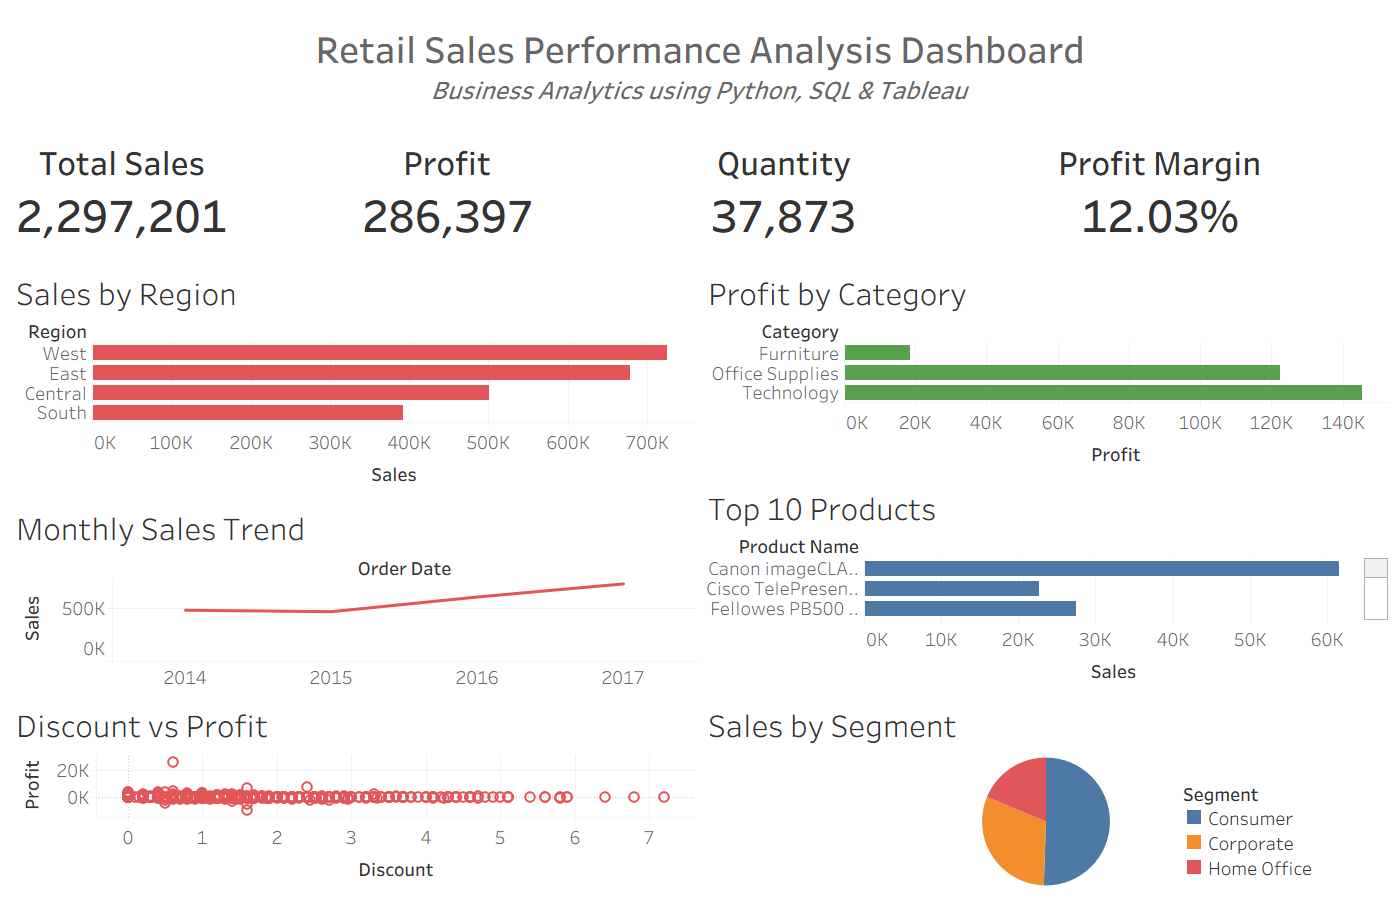

This screenshot's page, from the dashboard's own definition file:
{"tool":"tableau","page":{"name":"Dashboard 3","canvas":[1400,900],"ordinal":0},"visuals":[{"type":"text","box":[8,8,1384,119.5]},{"type":"worksheet","title":"Sheet 7","mark":"Automatic","box":[8,127.5,346,127]},{"type":"worksheet","title":"Sheet 7 (2)","mark":"Automatic","box":[354,127.5,346,127]},{"type":"worksheet","title":"Sheet 7 (3)","mark":"Automatic","box":[700,127.5,346,127]},{"type":"worksheet","title":"Sheet 7 (4)","mark":"Automatic","box":[1046,127.5,346,127]},{"type":"worksheet","title":"Sheet 1","mark":"Automatic","rows":["Region"],"cols":["Sales"],"box":[8,266.2,692,226.3]},{"type":"worksheet","title":"Sheet 2","mark":"Automatic","rows":["Category"],"cols":["Profit"],"box":[700,266.7,692,225.9]},{"type":"worksheet","title":"Sheet 3","mark":"Automatic","rows":["Sales"],"cols":["Order Date"],"box":[8,492.5,692,203.3]},{"type":"worksheet","title":"Sheet 4","mark":"Automatic","rows":["Product Name"],"cols":["Sales"],"box":[700,492.6,692,203.2]},{"type":"worksheet","title":"Sheet 5","mark":"Automatic","rows":["Profit"],"cols":["Discount"],"box":[8,695.8,692,196.2]},{"type":"worksheet","title":"Sheet 6","mark":"Pie","box":[700,695.8,692,196.2]},{"type":"legend","title":"Sheet 6","param":"[federated.0v1jhvq0q1s3t316v1jji0wl1lvw].[none:Segment:nk]","box":[1181.6,778.5,196,113.6]}]}

Visuals, with their boxes in screenshot pixels (x1, y1, x2, y2), scaled from the page's 1400x900 canvas onto the 1400x900 screenshot:
text: rect(8, 8, 1392, 128)
"Sheet 7" worksheet: rect(8, 128, 354, 254)
"Sheet 7 (2)" worksheet: rect(354, 128, 700, 254)
"Sheet 7 (3)" worksheet: rect(700, 128, 1046, 254)
"Sheet 7 (4)" worksheet: rect(1046, 128, 1392, 254)
"Sheet 1" worksheet: rect(8, 266, 700, 492)
"Sheet 2" worksheet: rect(700, 267, 1392, 493)
"Sheet 3" worksheet: rect(8, 492, 700, 696)
"Sheet 4" worksheet: rect(700, 493, 1392, 696)
"Sheet 5" worksheet: rect(8, 696, 700, 892)
"Sheet 6" worksheet (Pie marks): rect(700, 696, 1392, 892)
"Sheet 6" legend: rect(1182, 778, 1378, 892)
